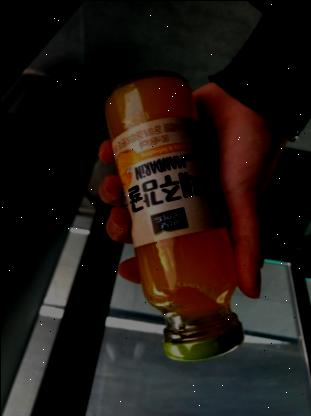Others: (89, 65, 253, 363)
